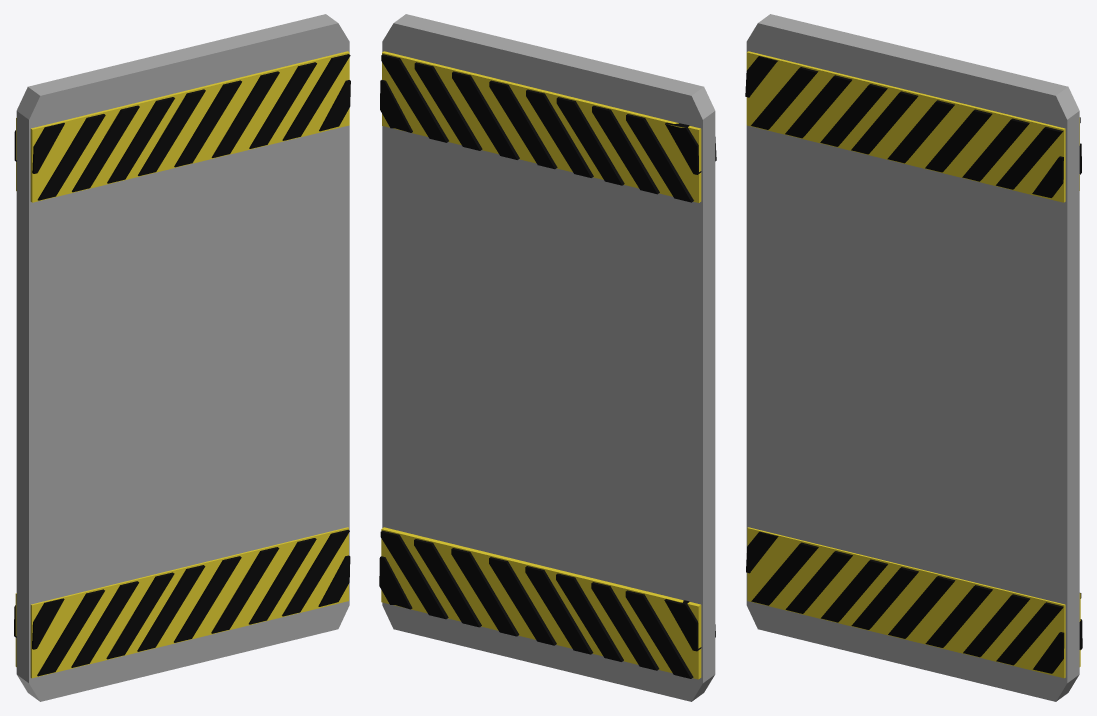
Rendered from door.fbx.
3 views of the same model, side by side, from view 1: azimuth 30°, elevation 25°; view 2: azimuth 150°, elevation 25°; view 3: azimuth 330°, elevation 25° (orthographic).
Visible parts, largest first — view 1: Cube, Cube.001, Cube.005; view 2: Cube, Cube.005, Cube.001; view 3: Cube, Cube.001, Cube.005.
Boxes of the visible parts, <box> form: Cube: <box>16,14,349,701</box>; Cube.001: <box>14,51,350,202</box>; Cube.005: <box>14,527,350,678</box>; Cube: <box>382,14,715,701</box>; Cube.005: <box>379,527,715,679</box>; Cube.001: <box>380,51,716,202</box>; Cube: <box>746,14,1079,701</box>; Cube.001: <box>745,51,1081,202</box>; Cube.005: <box>746,527,1082,678</box>.
Size of the model in its own units: 857 by 1548 by 97.51.
